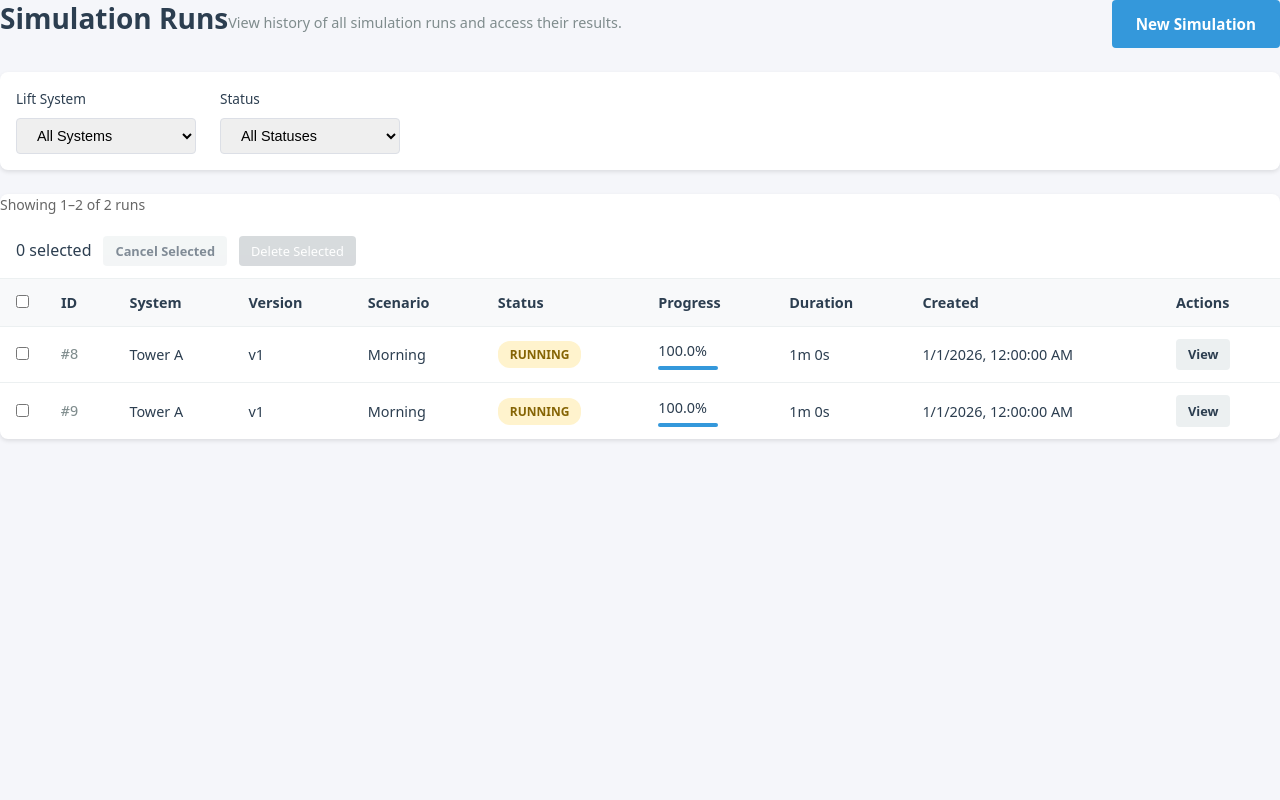
Test: SimulationRuns delete action › bulk cancels selected active runs and reports the outcome
The image size is (1280, 800).
Expected: the text "#8" is shown, [45, 326, 114, 383]
Click the checkbox named "Select run #8" at (22,354), box [16, 347, 29, 360]
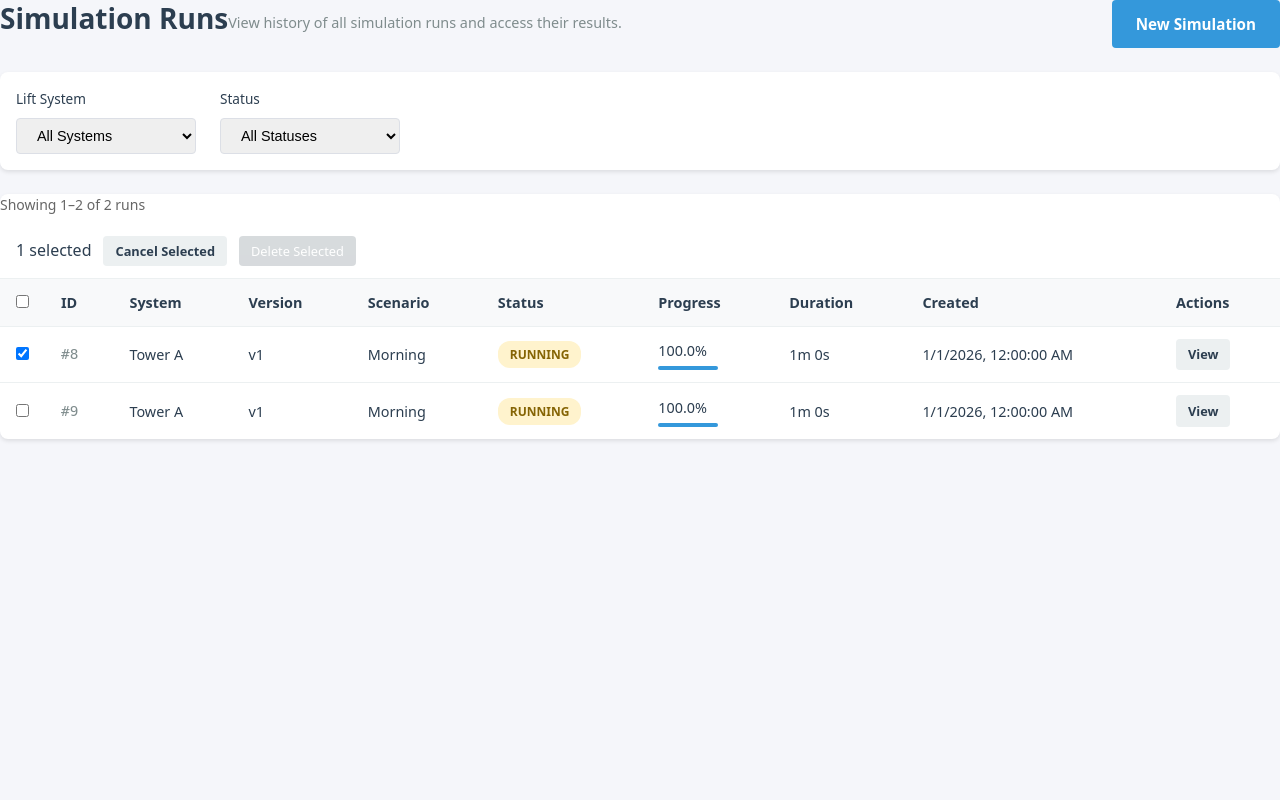
Click the checkbox named "Select run #9" at (22,410), box [16, 404, 29, 417]
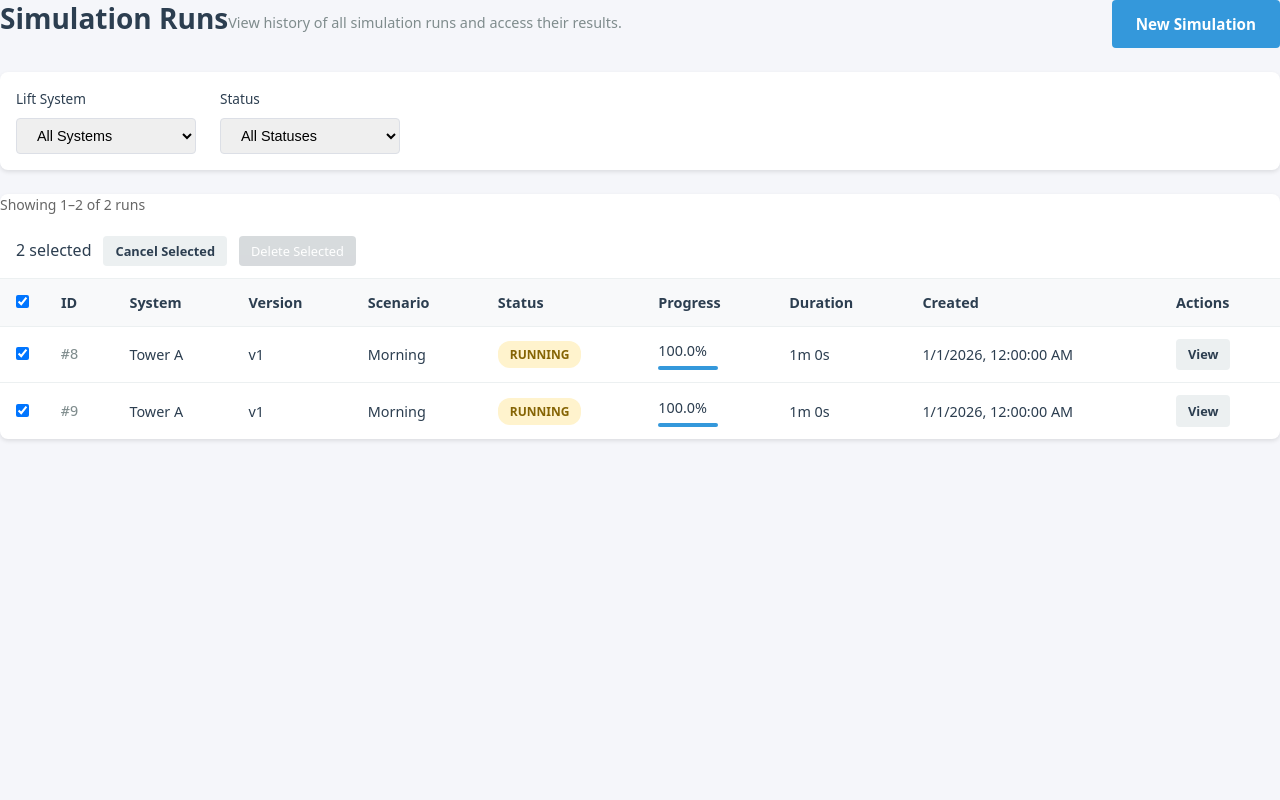
Click the button "Cancel Selected" at (165,251), box [104, 236, 227, 266]
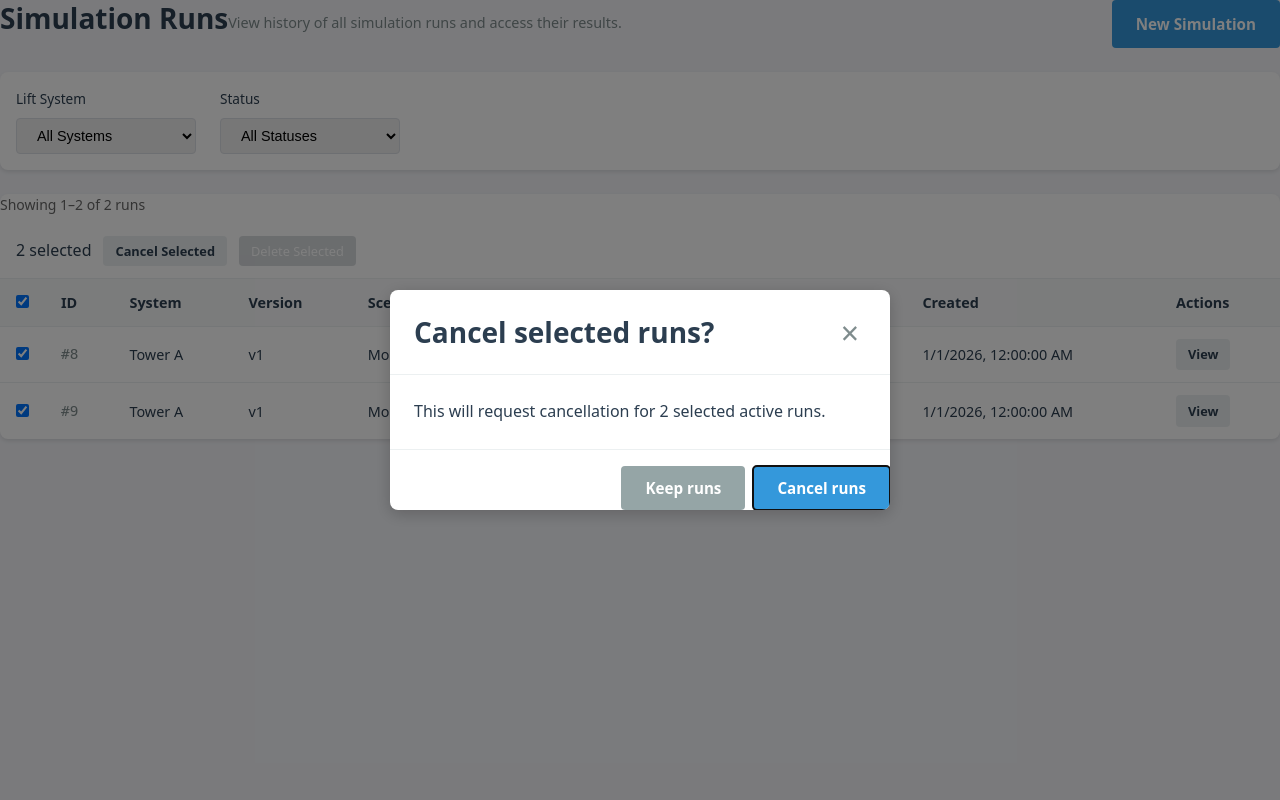
Click the button "Cancel runs" at (822,488), box [753, 466, 890, 510]
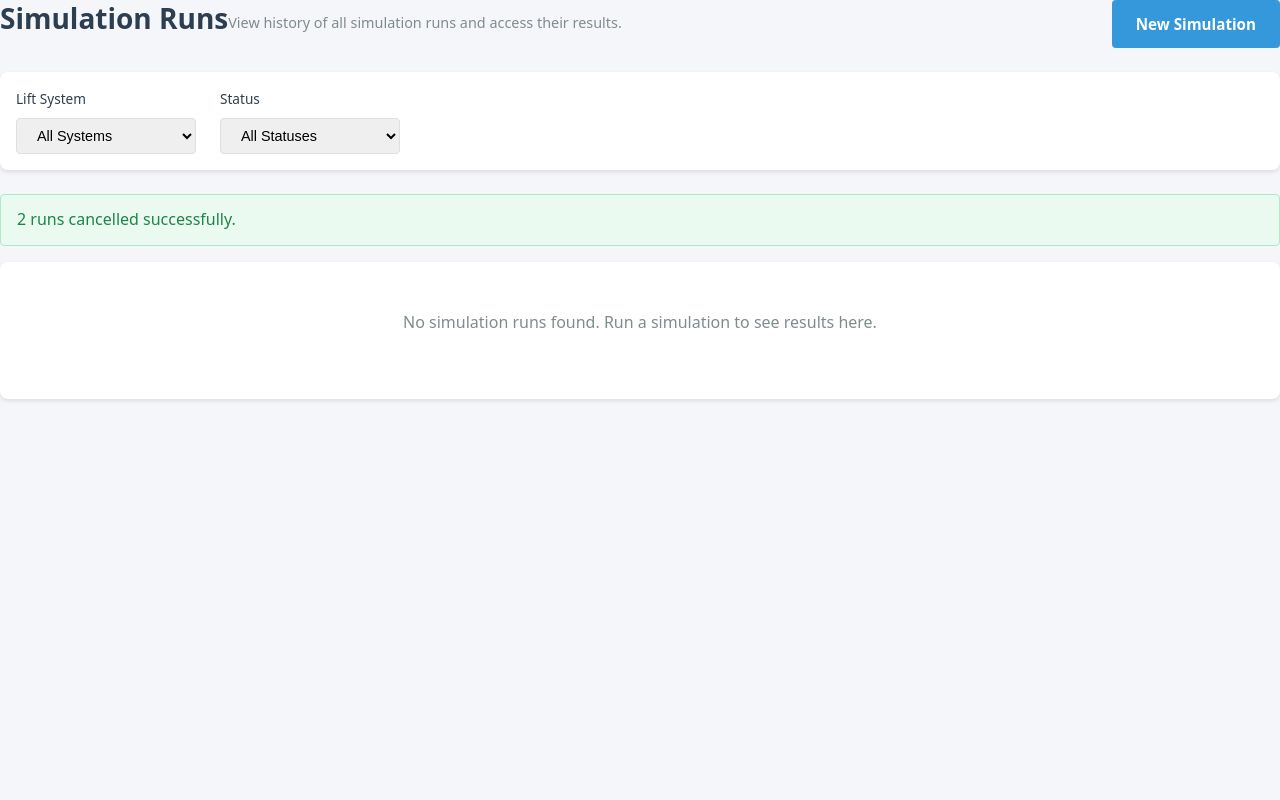
Result: the message reads "2 runs cancelled successfully." at [17, 208, 236, 230]
